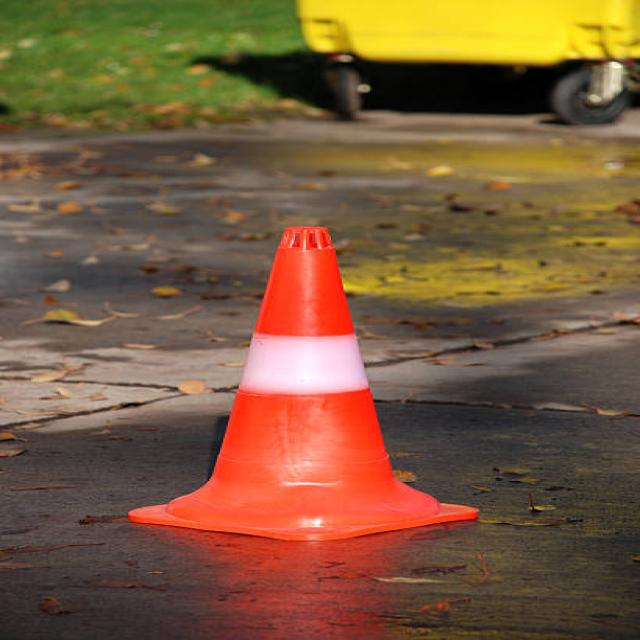Traffic Cone: (99, 207, 505, 563)
